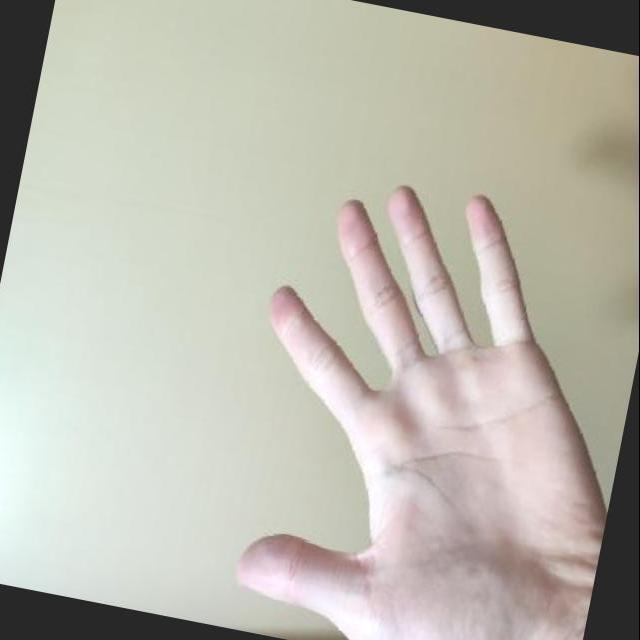hand: (180, 128, 640, 640)
